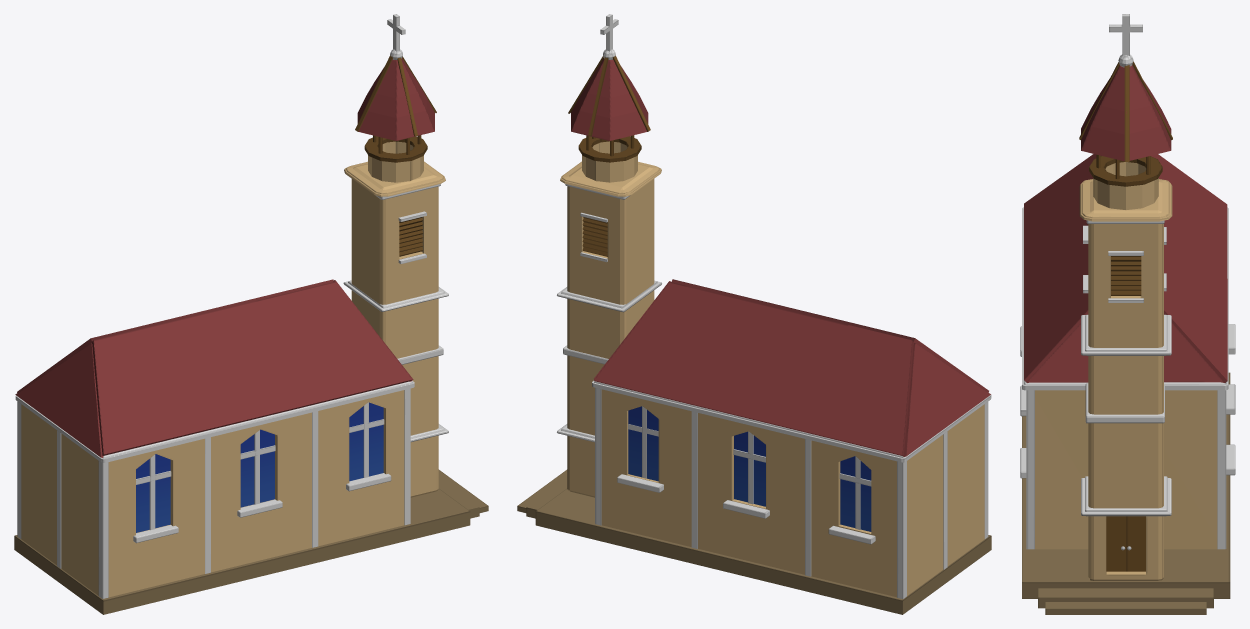
The model's file is church.glb.
3 renders of one model, left to right at view 1: azimuth 30°, elevation 25°; view 2: azimuth 150°, elevation 25°; view 3: azimuth 270°, elevation 25°, orthographic. The views are drawn at different scales.
Parts seen in each view (by area): view 1: Node; view 2: Node; view 3: Node.
Boxes of the visible parts, left/top/right/bottom form: Node: left=14, top=14, right=488, bottom=614; Node: left=517, top=14, right=991, bottom=614; Node: left=1020, top=14, right=1235, bottom=614.
Size of the model in its own units: 574 by 670 by 230.
Materials: 1 (1 with a texture image).
